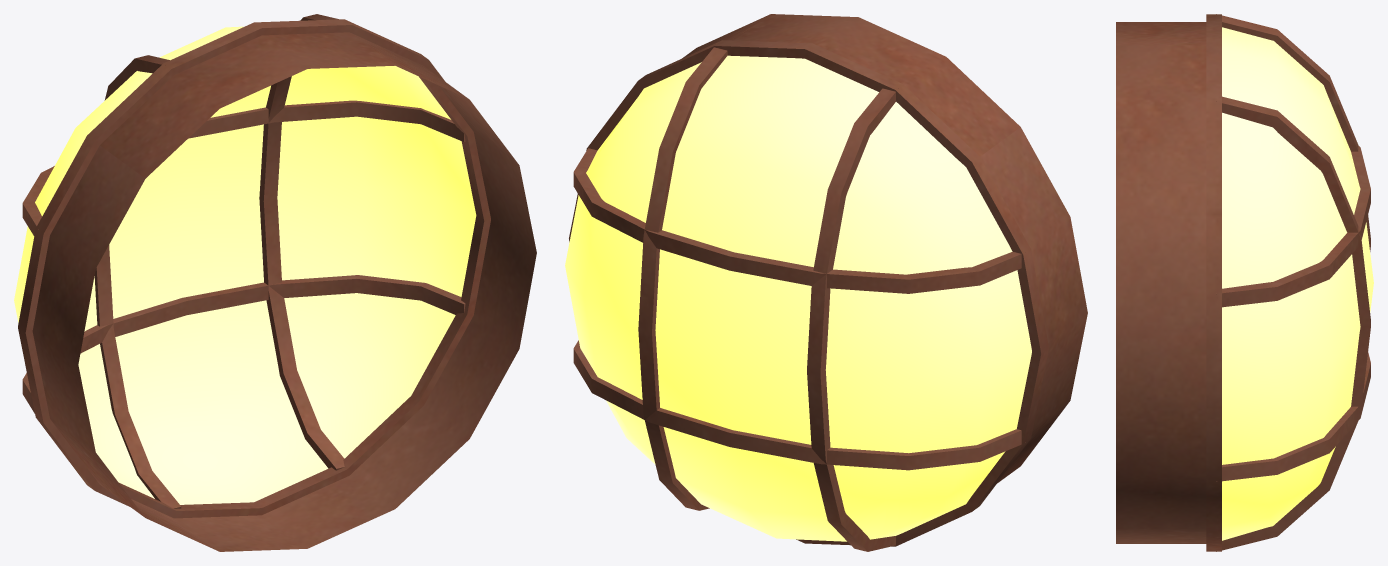
Rendered from Marine_WallMounted_Circular.fbx.
3 views of the same model, side by side, from view 1: azimuth 30°, elevation 25°; view 2: azimuth 150°, elevation 25°; view 3: azimuth 270°, elevation 25° (orthographic).
Visible parts, largest first — view 1: Marine_WallMounted_Circular; view 2: Marine_WallMounted_Circular; view 3: Marine_WallMounted_Circular.
Boxes of the visible parts, x1,y1,x2,y2 form: Marine_WallMounted_Circular: (14,14,536,551); Marine_WallMounted_Circular: (565,14,1087,551); Marine_WallMounted_Circular: (1116,14,1373,551).
Size of the model in its own units: 45.09 by 45.09 by 21.61.
2 materials, 1 textured.
